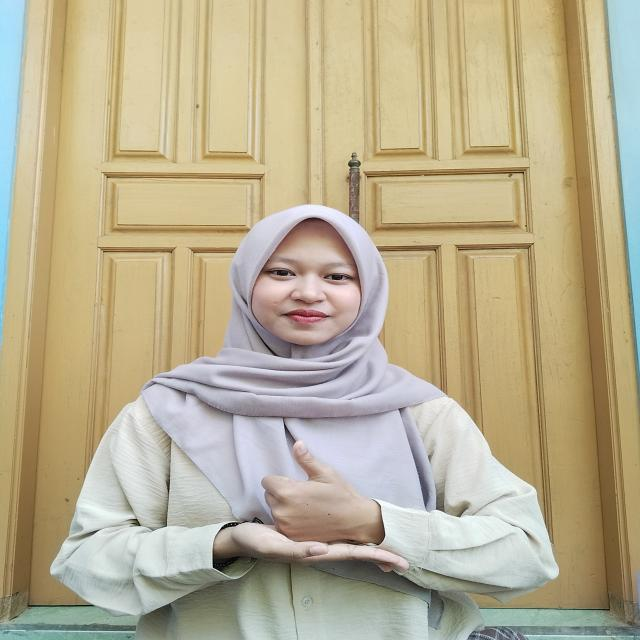cantik: (168, 438, 411, 572)
